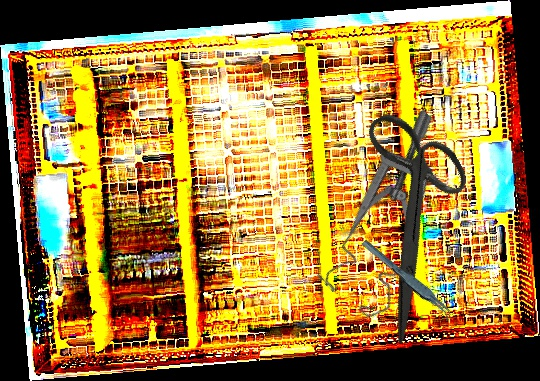Iris Scissors: (299, 94, 523, 344)
Speculum: (286, 107, 506, 329)
Tissue Forceps: (360, 229, 456, 330)
